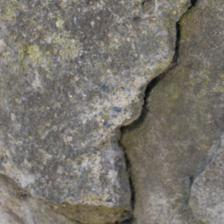Crack: (54, 2, 141, 216)
